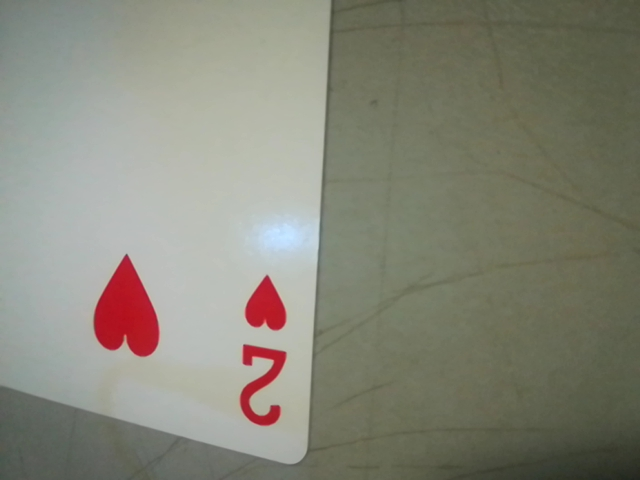hx 2: (225, 255, 303, 445)
